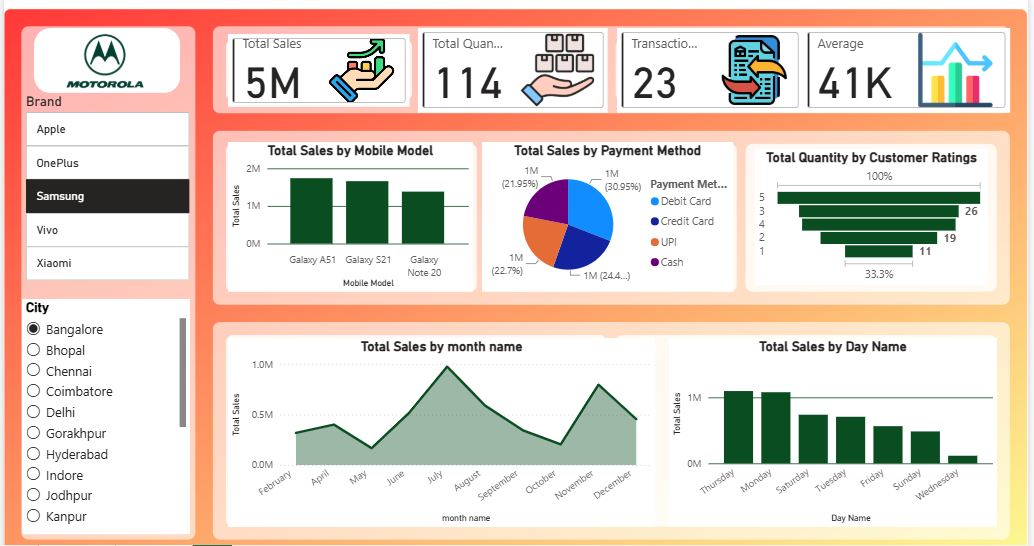

The page's visual inventory and layout, read from the dashboard file:
{"tool":"powerbi","page":{"name":"Page 2","canvas":[1280,720],"ordinal":0},"visuals":[{"type":"cardVisual","fields":{"Data":["Sales_Data.Transactions"]},"box":[754.2,38.5,245,106],"z":0},{"type":"cardVisual","fields":{"Data":["Sales_Data.Average"]},"box":[998.6,38.6,258.6,105.7],"z":2000},{"type":"cardVisual","fields":{"Data":["Sales_Data.Total Quantity"]},"box":[517.1,38.6,237.1,105.7],"z":2500},{"type":"advancedSlicerVisual","fields":{"Values":["Sales_Data.Brand"]},"box":[22.9,120,214.3,240],"z":3000},{"type":"listSlicer","fields":{"Values":["Sales_Data.City"]},"box":[22.9,377.1,210,294.3],"z":4000},{"type":"lineStackedColumnComboChart","fields":{"Category":["Sales_Data.Day Name"],"Y":["Sales_Data.Total Sales"]},"box":[831.4,425.7,410,235.7],"z":5000},{"type":"funnel","fields":{"Category":["Sales_Data.Customer Ratings"],"Y":["Sales_Data.Total Quantity"]},"box":[938.6,190,291.4,170],"z":6000},{"type":"pieChart","fields":{"Category":["Sales_Data.Payment Method"],"Y":["Sales_Data.Total Sales"]},"box":[597.1,181.4,314.3,187.1],"z":7000},{"type":"clusteredColumnChart","fields":{"Category":["Sales_Data.Mobile Model"],"Y":["Sales_Data.Total Sales"]},"box":[280,181.4,306,187],"z":8000},{"type":"shape","box":[37.1,38.6,182.9,81.4],"z":9000},{"type":"areaChart","fields":{"Category":["Sales_Data.month name "],"Y":["Sales_Data.Total Sales"]},"box":[280,425.7,534.3,235.7],"z":10000},{"type":"image","box":[61.4,30,130,100],"z":11000},{"type":"cardVisual","fields":{"Data":["Sales_Data.Total Sales"]},"box":[256,41.3,261.5,97.7],"z":13500}]}

Visuals, with their boxes on the page's 1280x720 design canvas (x1, y1, x2, y2). These are canvas units, not pixel positions in the 1034x546 screenshot, which may show the page scaled, cropped or inside an application window:
cardVisual - Sales_Data.Transactions: <bbox>754, 38, 999, 144</bbox>
cardVisual - Sales_Data.Average: <bbox>999, 39, 1257, 144</bbox>
cardVisual - Sales_Data.Total Quantity: <bbox>517, 39, 754, 144</bbox>
advancedSlicerVisual - Sales_Data.Brand: <bbox>23, 120, 237, 360</bbox>
listSlicer - Sales_Data.City: <bbox>23, 377, 233, 671</bbox>
lineStackedColumnComboChart - Sales_Data.Day Name x Sales_Data.Total Sales: <bbox>831, 426, 1241, 661</bbox>
funnel - Sales_Data.Customer Ratings x Sales_Data.Total Quantity: <bbox>939, 190, 1230, 360</bbox>
pieChart - Sales_Data.Payment Method x Sales_Data.Total Sales: <bbox>597, 181, 911, 368</bbox>
clusteredColumnChart - Sales_Data.Mobile Model x Sales_Data.Total Sales: <bbox>280, 181, 586, 368</bbox>
shape: <bbox>37, 39, 220, 120</bbox>
areaChart - Sales_Data.month name  x Sales_Data.Total Sales: <bbox>280, 426, 814, 661</bbox>
image: <bbox>61, 30, 191, 130</bbox>
cardVisual - Sales_Data.Total Sales: <bbox>256, 41, 518, 139</bbox>
